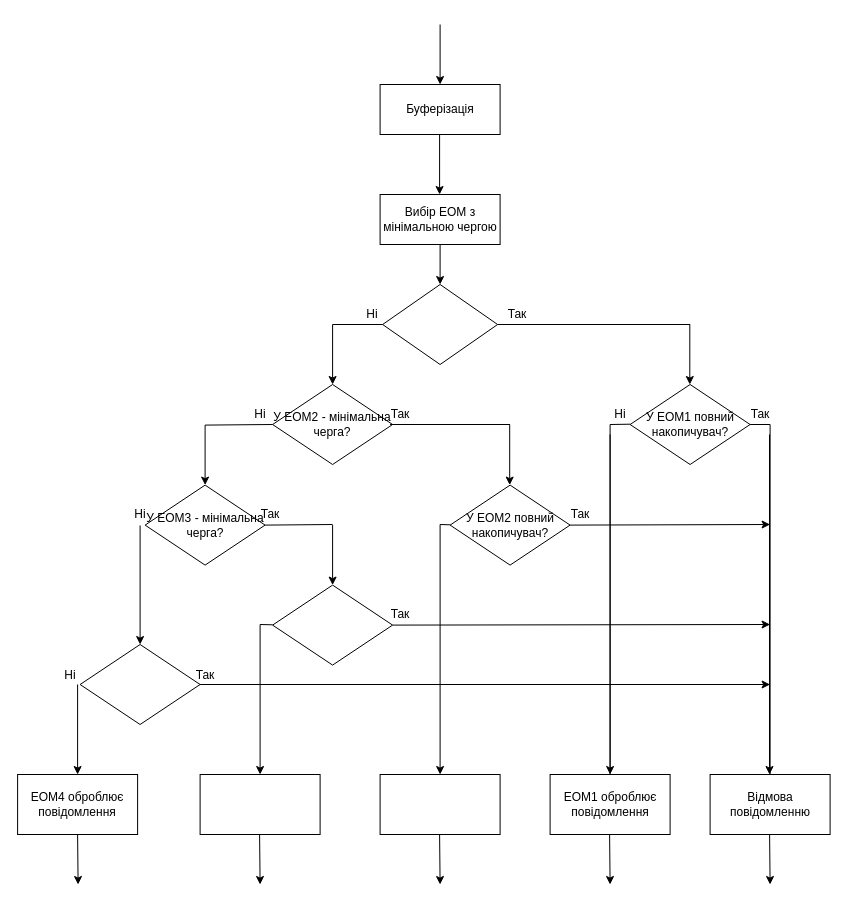
The diagram is 848 pixels wide and 910 high, and some of its shapes have lost their labels. The centre of each missing label's shape, as x and y in pixels:
ЕОМ2 оброблює повідомлення: the point at 439,804
ЕОМ3 оброблює повідомлення: the point at 259,804
У ЕОМ1 - мінімальна черга?: the point at 440,324
У ЕОМ3 повний накопичувач?: the point at 332,624
У ЕОМ4 повний накопичувач?: the point at 139,684
